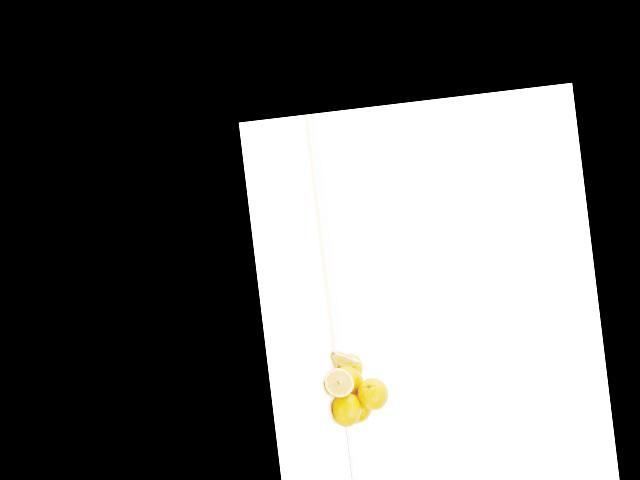lemon: (327, 389, 367, 428)
